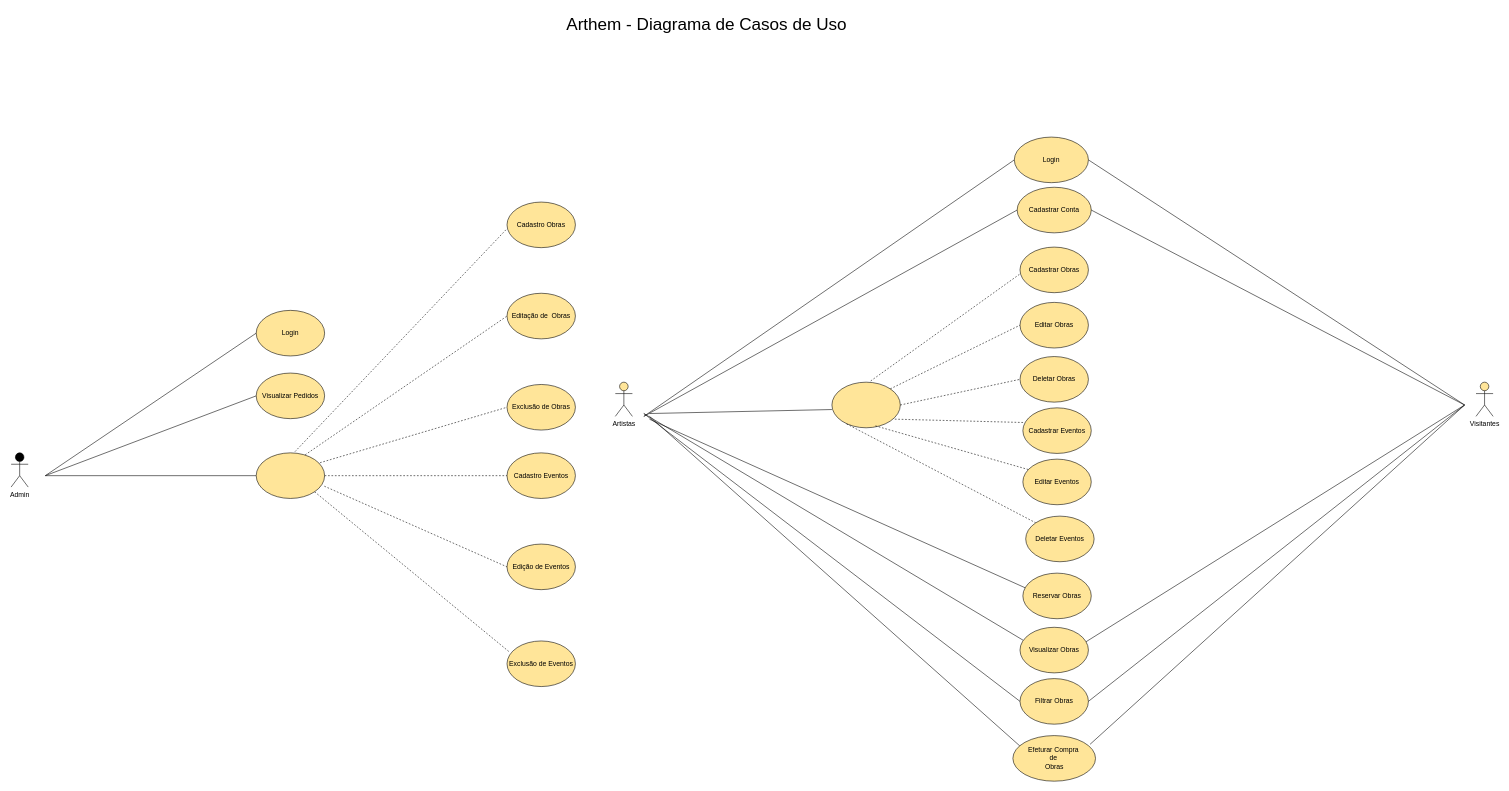
Image size: 1509x791. Some labels were removed from this diagram. The shapes that lost their labels are listed below. From the top down, each one's box as (x1, y1, x2, y2) in pixels, then its label:
(831, 382, 900, 428): Pedidos
(256, 452, 325, 498): Autorizar Pedidos
